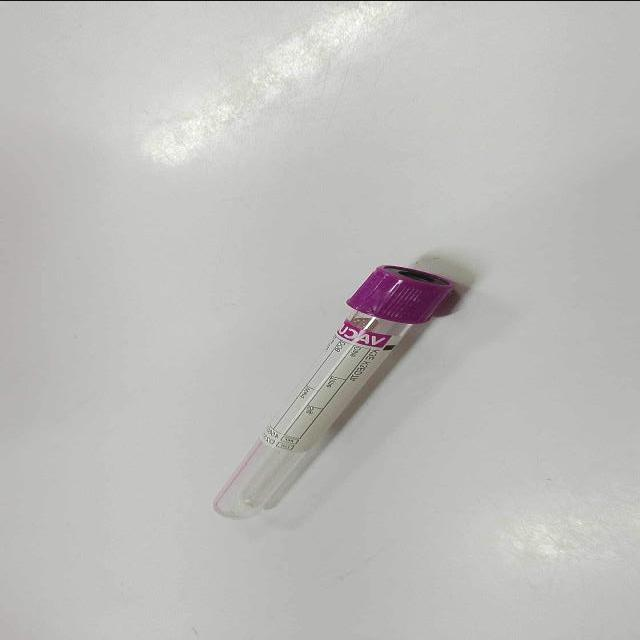Sharps: (209, 262, 456, 519)
